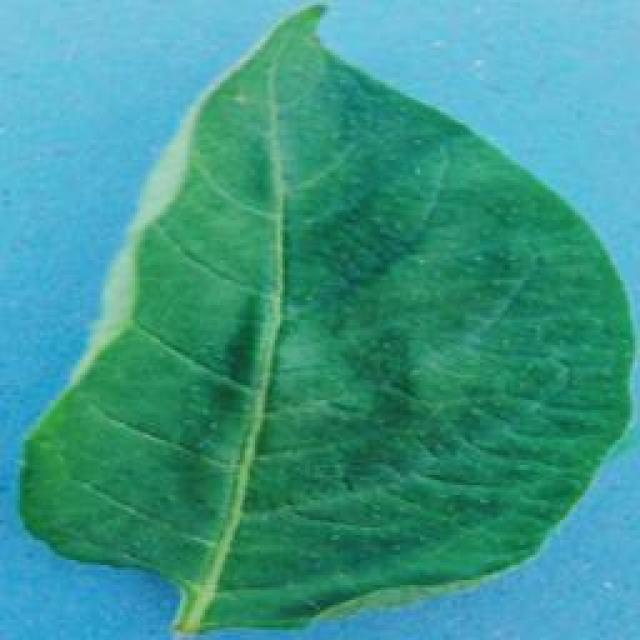Potato_Healthy: (20, 1, 626, 630)
